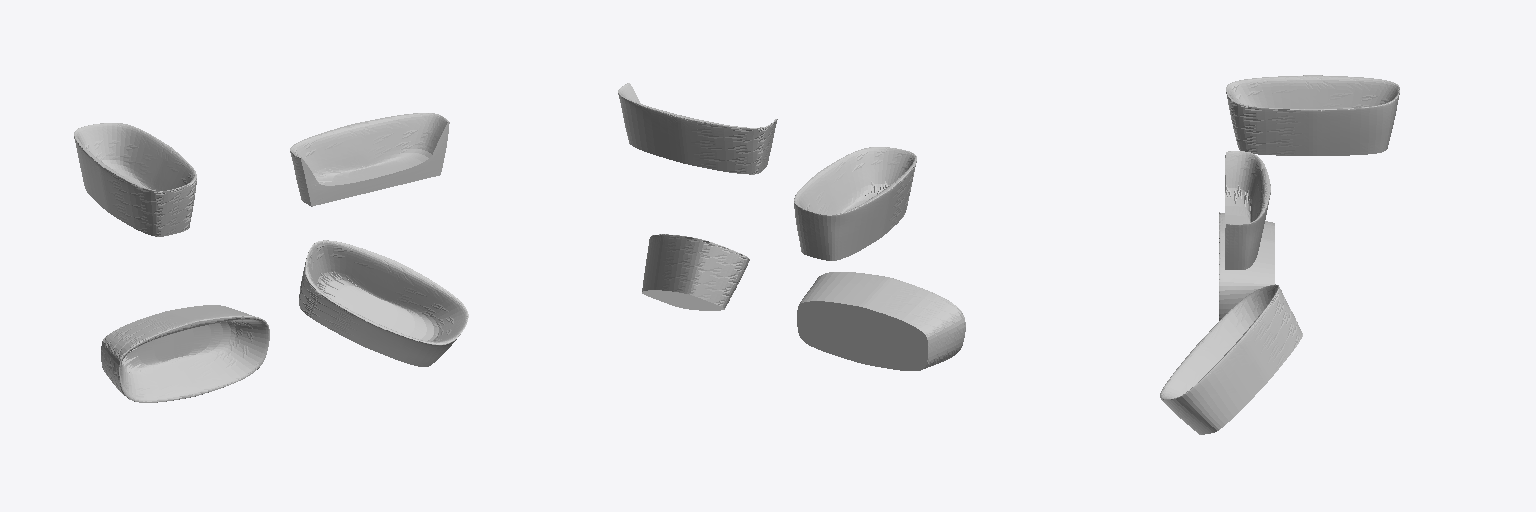
Rendered from 877963_VASCA.obj.
3 views of the same model, side by side, from view 1: azimuth 30°, elevation 25°; view 2: azimuth 150°, elevation 25°; view 3: azimuth 270°, elevation 25° (orthographic).
Parts seen in each view (by area): view 1: Cylinder001, Cylinder003, Cylinder002, Cylinder004; view 2: Cylinder003, Cylinder004, Cylinder002, Cylinder001; view 3: Cylinder004, Cylinder001, Cylinder002, Cylinder003.
Part boxes in pixels (left/top/right/bottom): Cylinder001: left=299, top=240, right=468, bottom=366; Cylinder003: left=101, top=305, right=269, bottom=402; Cylinder002: left=290, top=113, right=449, bottom=206; Cylinder004: left=74, top=123, right=196, bottom=236; Cylinder003: left=797, top=272, right=965, bottom=370; Cylinder004: left=794, top=147, right=916, bottom=260; Cylinder002: left=618, top=83, right=777, bottom=174; Cylinder001: left=642, top=234, right=749, bottom=310; Cylinder004: left=1226, top=75, right=1399, bottom=155; Cylinder001: left=1160, top=284, right=1302, bottom=434; Cylinder002: left=1225, top=151, right=1270, bottom=269; Cylinder003: left=1219, top=212, right=1274, bottom=320.
Bounding box in the file's own units: 148 × 95.49 × 92.02.